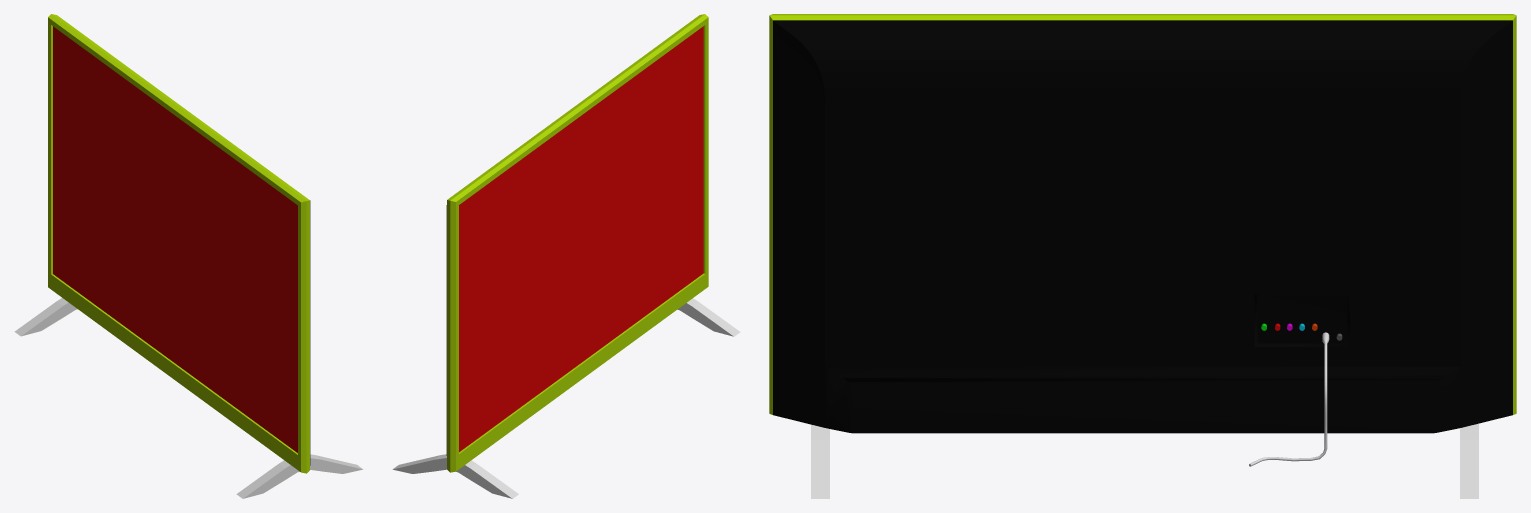
3 views of the same model, side by side, from view 1: azimuth 30°, elevation 25°; view 2: azimuth 150°, elevation 25°; view 3: azimuth 270°, elevation 25° (orthographic). The views are drawn at different scales.
Visible parts, largest first — view 1: TV, leg, leg001; view 2: TV, leg001, leg; view 3: TV, leg001, leg.
Boxes of the visible parts, left/top/right/bottom form: TV: left=48, top=14, right=310, bottom=473; leg: left=236, top=454, right=363, bottom=498; leg001: left=14, top=298, right=77, bottom=336; TV: left=446, top=14, right=708, bottom=472; leg001: left=392, top=454, right=518, bottom=498; leg: left=677, top=298, right=740, bottom=336; TV: left=769, top=14, right=1516, bottom=433; leg001: left=1460, top=423, right=1478, bottom=498; leg: left=811, top=424, right=829, bottom=498.
Bounding box in the file's own units: 10.59 × 24.83 × 38.83.
